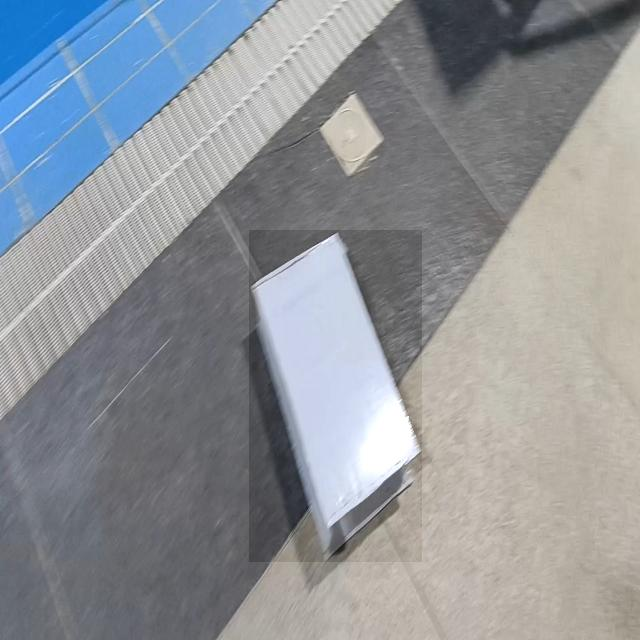Cuboid: (249, 230, 422, 562)
